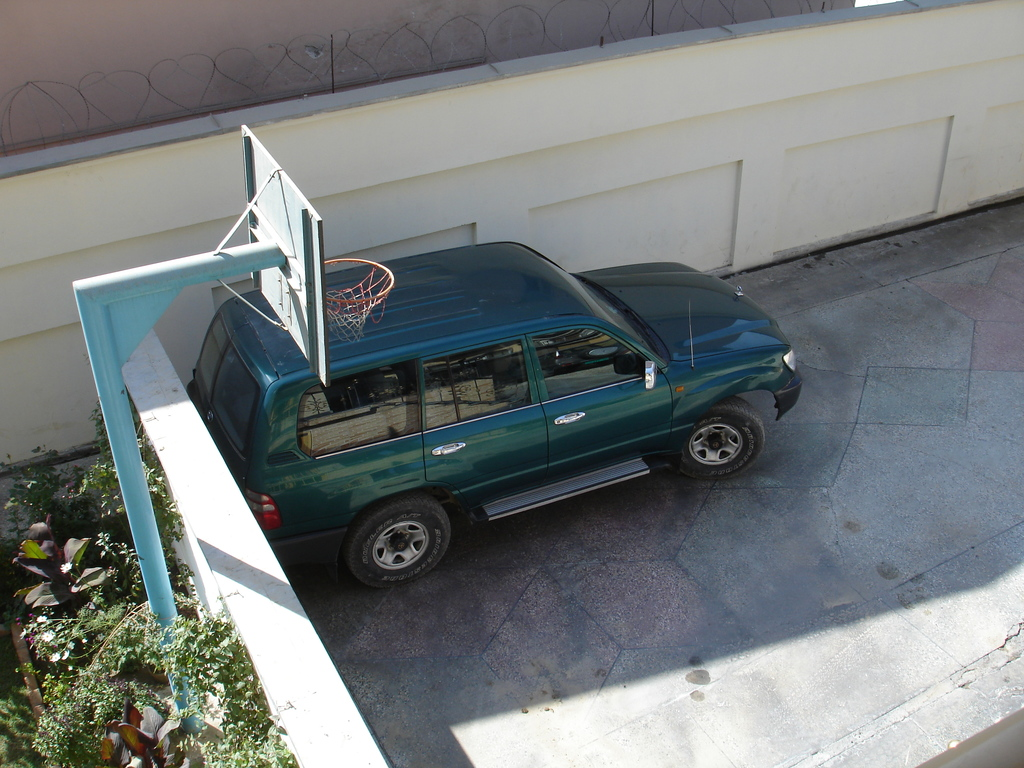Car: (188, 239, 805, 593)
